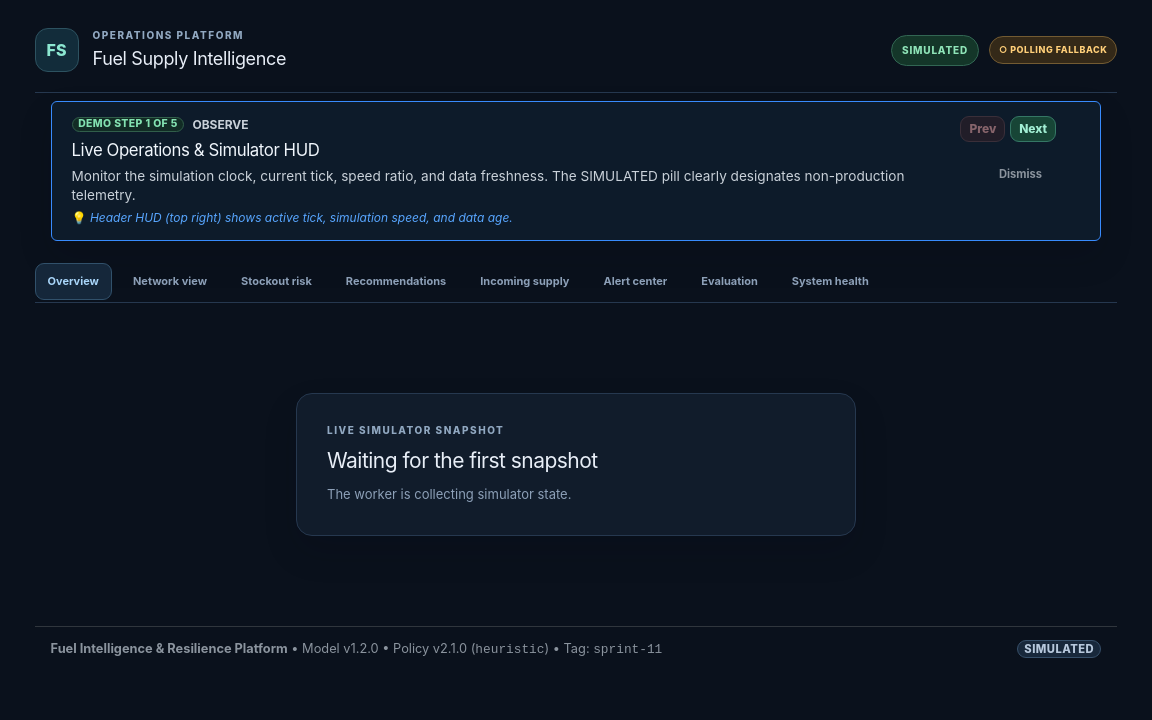
Test: operator application › shows each recommendation ID beside its exact persisted request quantity and key
Later steps or results of the test are not shown.
Click the button "Recommendations" at (396, 282), box x1=333 y1=263 x2=459 y2=300
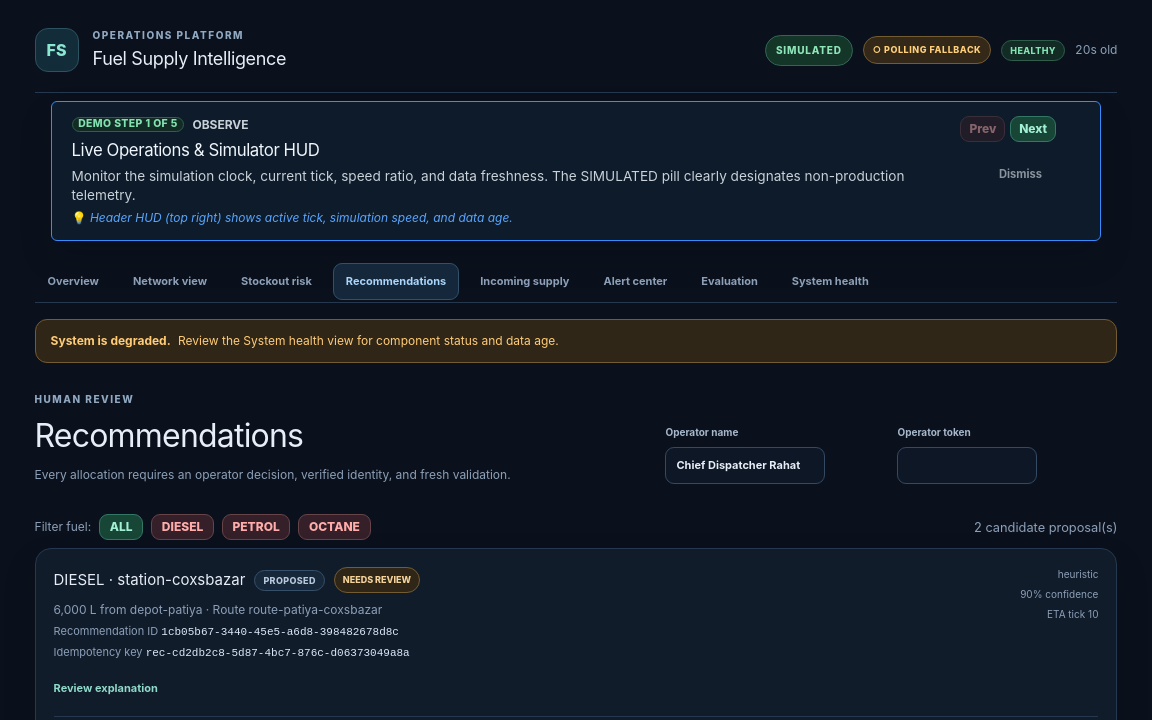
Now the text "1cb05b67-3440-45e5-a6d8-398482678d8c" is shown, box x1=161 y1=626 x2=399 y2=638
Now the text "6,000 L from depot-patiya · Route route-patiya-coxsbazar" is shown, box x1=54 y1=601 x2=420 y2=619
Now the text "rec-cd2db2c8-5d87-4bc7-876c-d06373049a8a" is shown, box x1=146 y1=647 x2=410 y2=659
